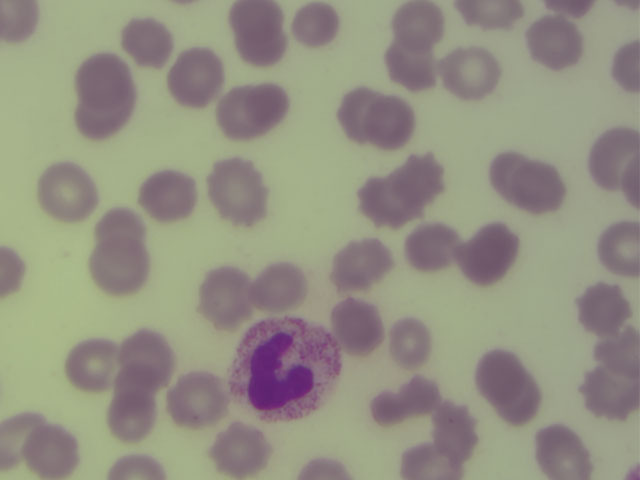RBC: (214, 158, 274, 235), (84, 233, 150, 293), (530, 431, 599, 480), (76, 53, 132, 113), (43, 161, 99, 221), (466, 222, 520, 284), (330, 297, 383, 359), (474, 344, 525, 408), (578, 368, 640, 420), (167, 369, 224, 425), (140, 166, 198, 221), (445, 47, 504, 101), (403, 217, 461, 270), (168, 50, 221, 106), (207, 425, 270, 471), (340, 241, 395, 292), (528, 23, 585, 72), (206, 269, 251, 331), (254, 256, 305, 310), (105, 387, 156, 441), (588, 126, 636, 183), (4, 412, 44, 480), (384, 41, 437, 90), (435, 404, 481, 460), (367, 95, 413, 150), (395, 158, 445, 207), (122, 22, 174, 67), (581, 289, 633, 334), (69, 339, 114, 391), (520, 162, 568, 210), (33, 429, 79, 479), (398, 7, 449, 51), (219, 91, 263, 141), (602, 218, 640, 274), (391, 316, 432, 367), (228, 3, 283, 41), (128, 333, 172, 379), (296, 5, 339, 52), (366, 182, 412, 225), (81, 98, 133, 135), (602, 329, 640, 378), (452, 3, 520, 30), (504, 375, 538, 428), (338, 86, 369, 143), (249, 86, 291, 127), (93, 210, 148, 240), (404, 450, 457, 480), (3, 2, 38, 46), (236, 34, 289, 63), (613, 40, 640, 95), (1, 247, 26, 305), (492, 156, 526, 194), (116, 363, 160, 391), (111, 459, 167, 480), (401, 384, 436, 415), (302, 461, 355, 480), (373, 392, 403, 424), (622, 158, 640, 208), (543, 1, 596, 16)
WBC: (228, 319, 340, 422)
